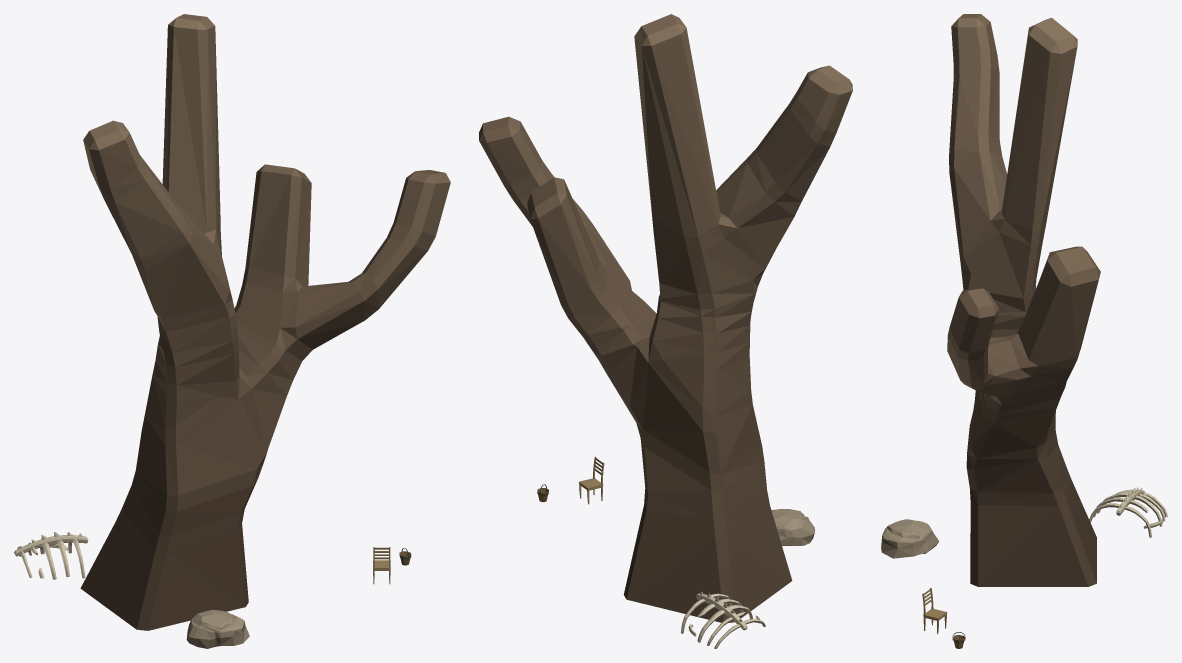
File: LmTree.glb
The picture shows the model from 3 angles, left to right: view 1: azimuth 30°, elevation 25°; view 2: azimuth 150°, elevation 25°; view 3: azimuth 270°, elevation 25°; orthographic projection. The views are drawn at different scales.
Parts seen in each view (by area): view 1: LmTree; view 2: LmTree; view 3: LmTree.
Boxes of the visible parts, x1,y1,x2,y2 form: LmTree: (14,14,450,648); LmTree: (479,14,852,648); LmTree: (881,14,1167,648).
Size of the model in its own units: 10.17 by 15 by 7.05.
